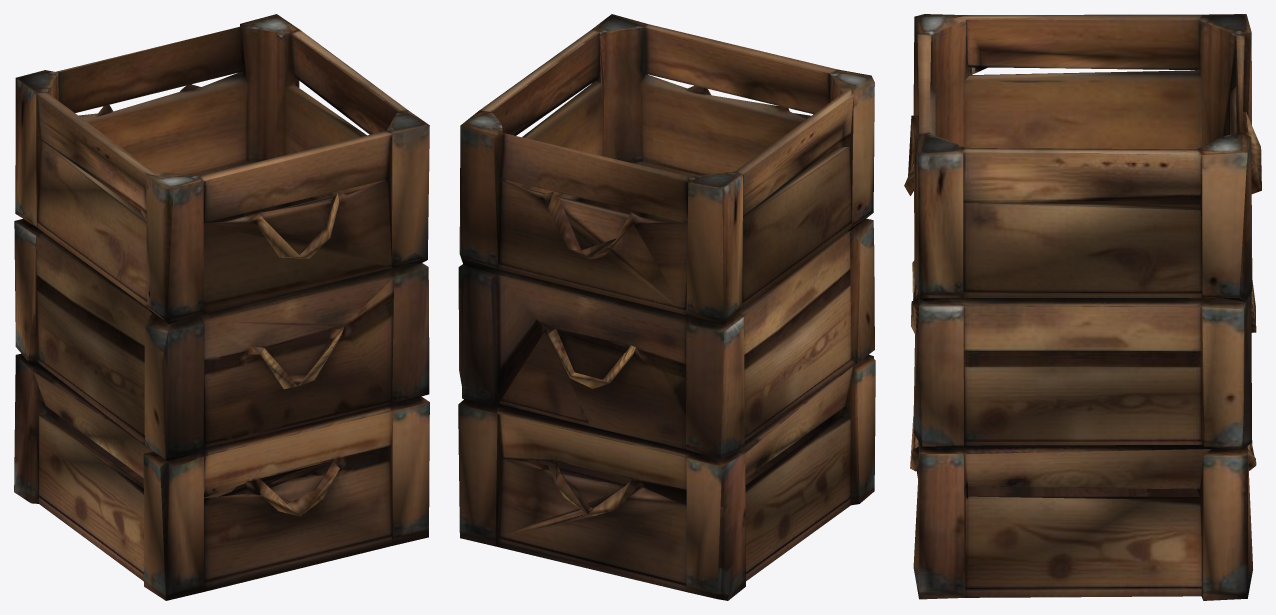
Rendered from crates.glb.
3 renders of one model, left to right at view 1: azimuth 30°, elevation 25°; view 2: azimuth 150°, elevation 25°; view 3: azimuth 270°, elevation 25°, orthographic. The views are drawn at different scales.
Visible parts, largest first — view 1: geometry_0; view 2: geometry_0; view 3: geometry_0.
Boxes of the visible parts, <box> form: geometry_0: <box>14,14,429,600</box>; geometry_0: <box>458,14,875,600</box>; geometry_0: <box>904,14,1261,600</box>.
Bounding box in the file's own units: 1.3 × 1.89 × 1.37.
Materials: 1 (1 with a texture image).
